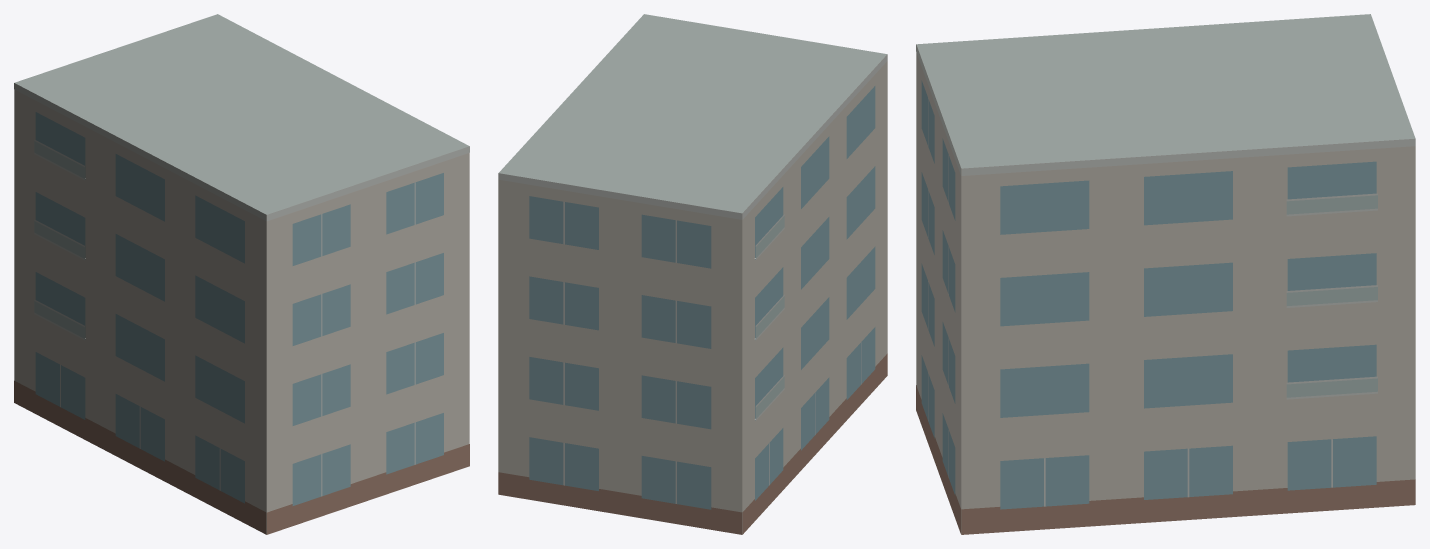
File: survey-upis-32909687.glb
The picture shows the model from 3 angles, left to right: view 1: azimuth 30°, elevation 25°; view 2: azimuth 150°, elevation 25°; view 3: azimuth 270°, elevation 25°; orthographic projection. The views are drawn at different scales.
Visible parts, largest first — view 1: survey-upis-32909687.tmp; view 2: survey-upis-32909687.tmp; view 3: survey-upis-32909687.tmp.
Part boxes in pixels (x1,y1,x2,y2): survey-upis-32909687.tmp: [14, 14, 469, 534]; survey-upis-32909687.tmp: [498, 14, 887, 534]; survey-upis-32909687.tmp: [916, 14, 1415, 534].
Bounding box in the file's own units: 10.83 × 11.95 × 14.78.
